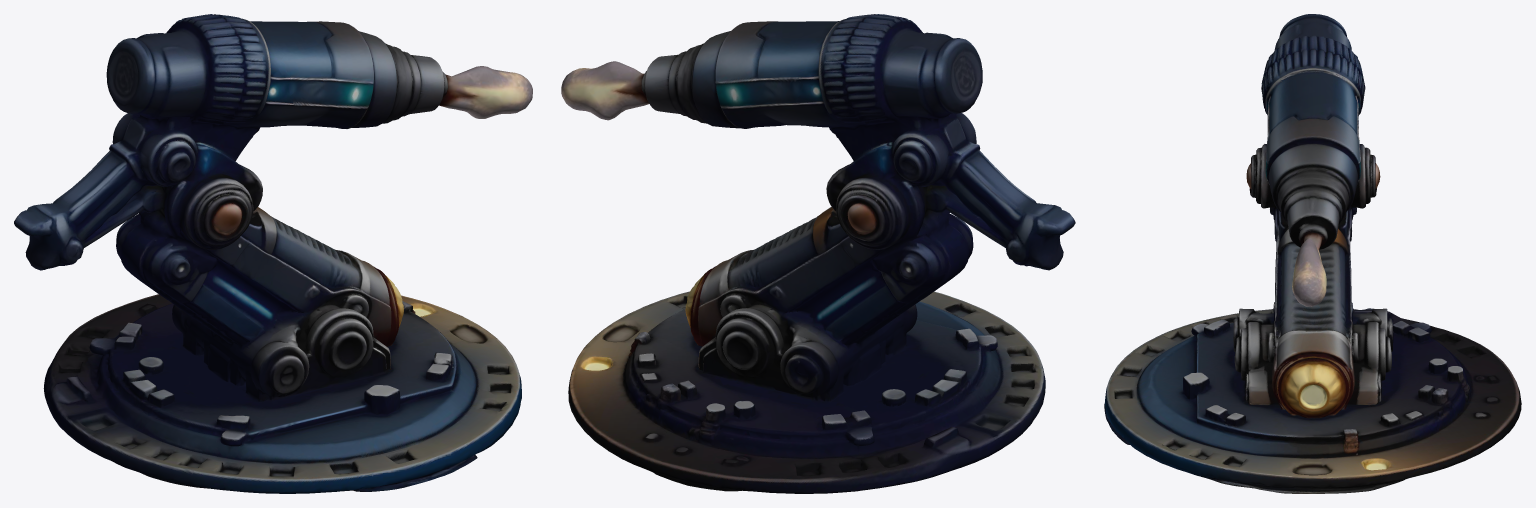
The model's file is mechanical-dramel.fbx.
The picture shows the model from 3 angles, left to right: view 1: azimuth 30°, elevation 25°; view 2: azimuth 150°, elevation 25°; view 3: azimuth 270°, elevation 25°; orthographic projection. The views are drawn at different scales.
Visible parts, largest first — view 1: tripo_node_f0899660; view 2: tripo_node_f0899660; view 3: tripo_node_f0899660.
Boxes of the visible parts, x1=… form: tripo_node_f0899660: x1=14, y1=14, x2=532, y2=493; tripo_node_f0899660: x1=561, y1=14, x2=1075, y2=493; tripo_node_f0899660: x1=1104, y1=14, x2=1521, y2=493.
Size of the model in its own units: 0.9999 by 0.7482 by 0.8336.
Materials: 1 (1 with a texture image).
